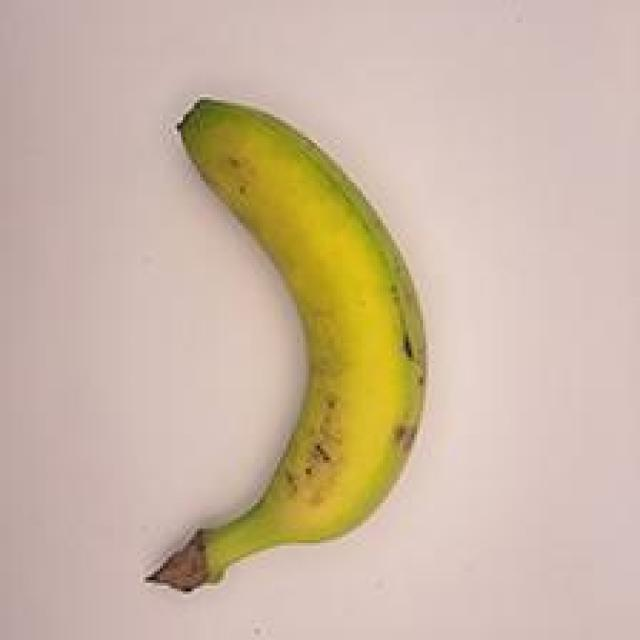unripe: (102, 78, 442, 607)
